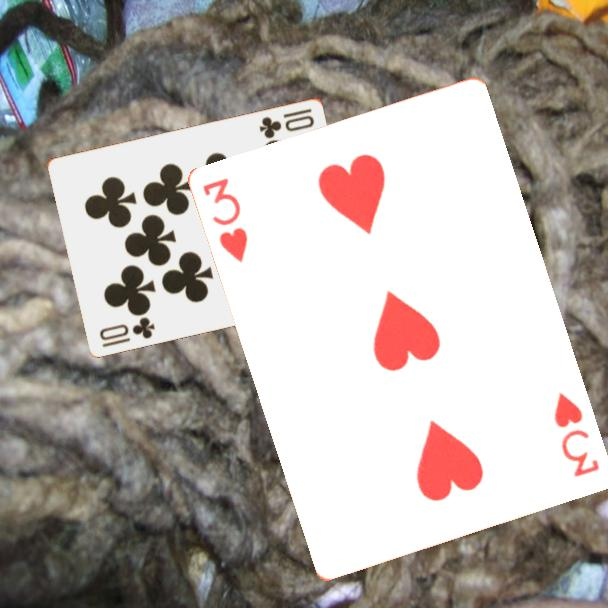c10: (96, 313, 158, 350), (256, 104, 317, 141)
h03: (200, 174, 252, 266), (551, 389, 603, 480)
